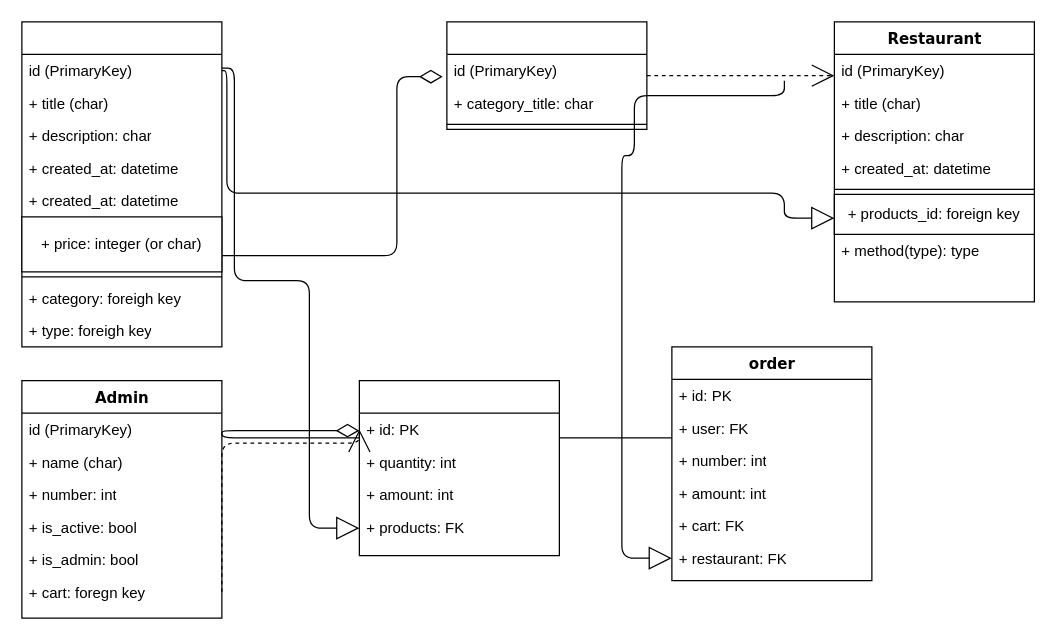
Some shapes in this 1056 by 640 pixel diagram are drawn without their labels. Here are the shapes that lost their labels. From the top down, the box of each, then its label:
(446, 21, 647, 129): ProductCategory
(21, 21, 222, 347): Product
(358, 379, 559, 556): cart
